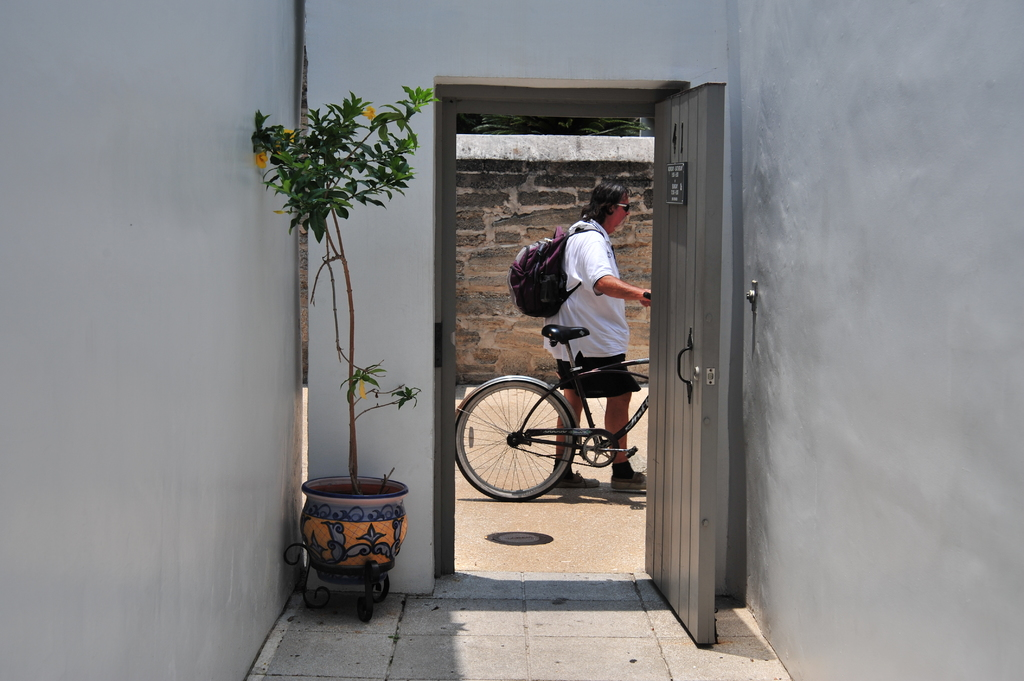door: (658, 104, 719, 593)
handle: (670, 339, 695, 410)
